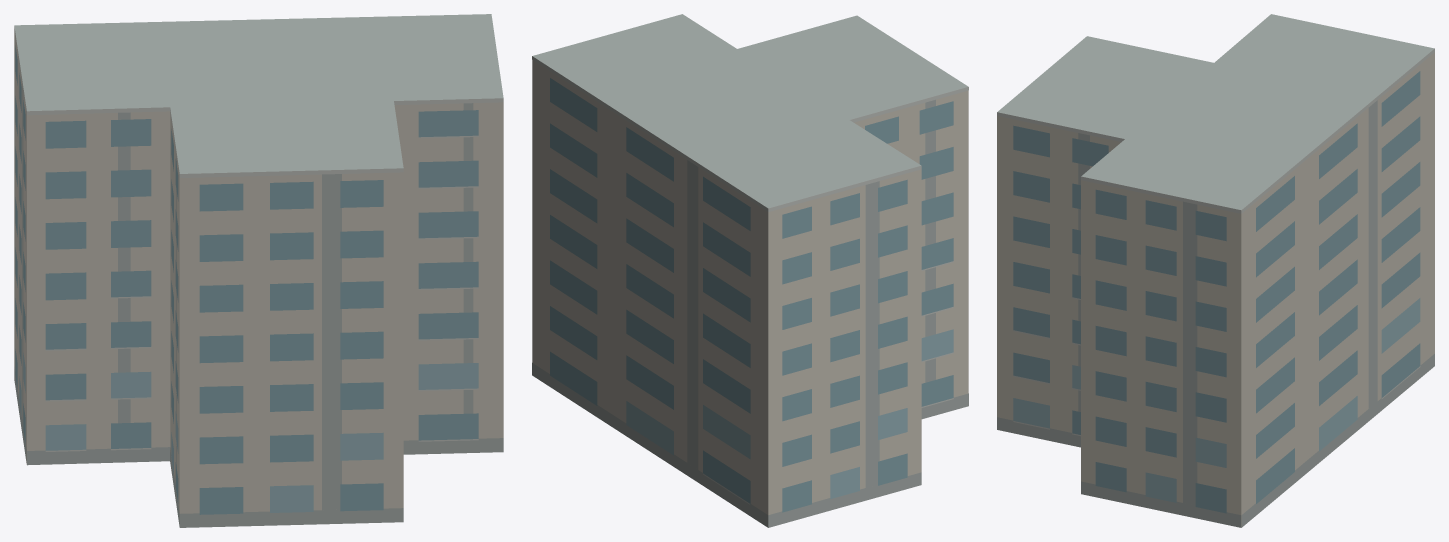
Rendered from residential-ce92aed3-3e5d-4318-8eb4-094533d02f9e.glb.
The picture shows the model from 3 angles, left to right: view 1: azimuth 30°, elevation 25°; view 2: azimuth 150°, elevation 25°; view 3: azimuth 270°, elevation 25°; orthographic projection. The views are drawn at different scales.
Parts seen in each view (by area): view 1: residential-ce92aed3-3e5d-4318-8eb4-094533d02f9e.tmp; view 2: residential-ce92aed3-3e5d-4318-8eb4-094533d02f9e.tmp; view 3: residential-ce92aed3-3e5d-4318-8eb4-094533d02f9e.tmp.
Part boxes in pixels (box(x1,y1,x2,y2)): residential-ce92aed3-3e5d-4318-8eb4-094533d02f9e.tmp: box(14, 14, 503, 527); residential-ce92aed3-3e5d-4318-8eb4-094533d02f9e.tmp: box(532, 14, 968, 527); residential-ce92aed3-3e5d-4318-8eb4-094533d02f9e.tmp: box(997, 14, 1434, 527).
Bounding box in the file's own units: 27.83 × 21 × 26.24.
